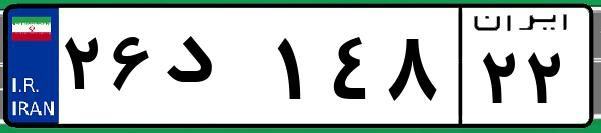1: (270, 28, 330, 110)
2: (57, 26, 110, 100), (475, 38, 525, 113), (525, 38, 570, 115)
4: (330, 28, 385, 110)
6: (110, 28, 158, 98)
8: (385, 28, 445, 110)
د: (158, 20, 270, 120)
